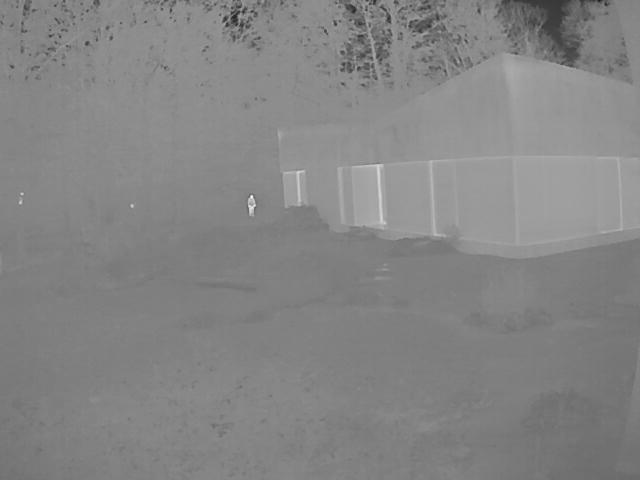person: (247, 193, 260, 217)
